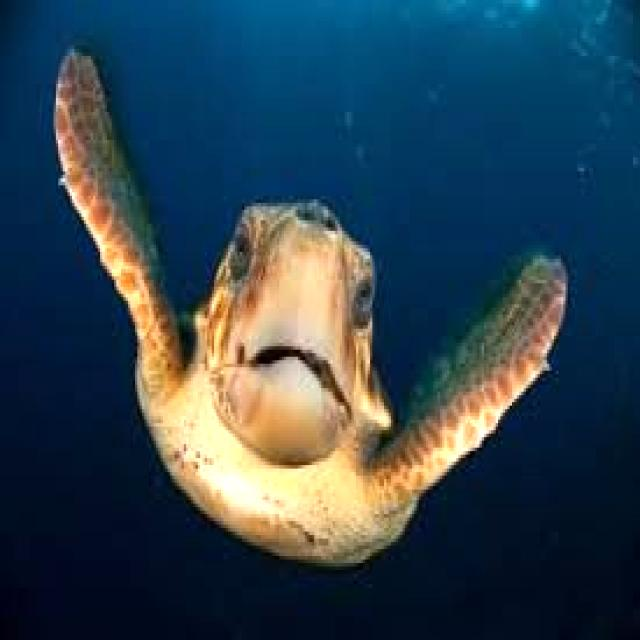Sea turtle: (31, 27, 580, 570)
